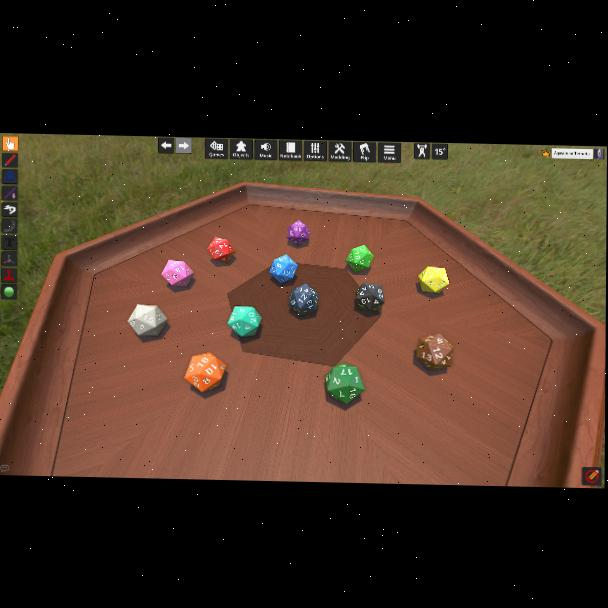d20: (185, 352, 226, 393), (325, 363, 363, 405), (415, 332, 452, 371), (129, 303, 169, 337), (228, 306, 262, 337), (287, 284, 316, 316), (417, 266, 449, 294), (162, 260, 194, 288), (269, 255, 297, 284), (354, 283, 382, 312), (346, 245, 373, 273), (208, 237, 235, 263), (287, 220, 309, 245)
